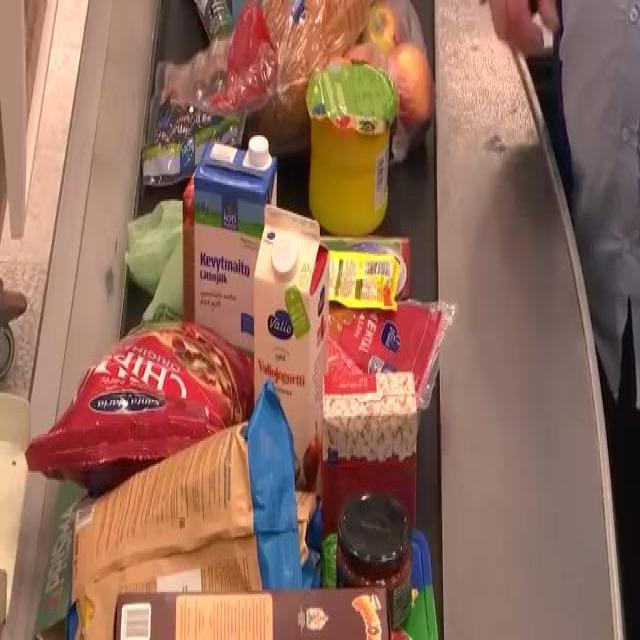beverage: (252, 205, 332, 479), (196, 140, 280, 332)
food-box: (34, 398, 300, 640), (36, 322, 248, 508), (141, 29, 250, 193), (238, 0, 372, 123), (322, 376, 420, 538), (115, 586, 393, 637), (318, 300, 436, 408), (314, 66, 394, 218), (334, 496, 414, 622), (316, 250, 397, 308)
fruit: (342, 0, 444, 139)
